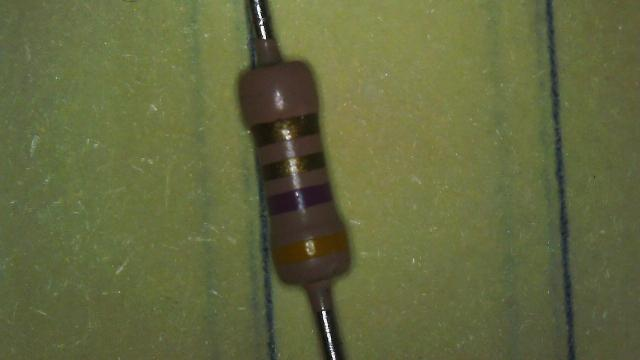gold: (250, 114, 319, 147), (259, 155, 325, 177)
resistor: (210, 30, 373, 319)
violet: (267, 184, 332, 215)
yellow: (274, 232, 348, 264)
